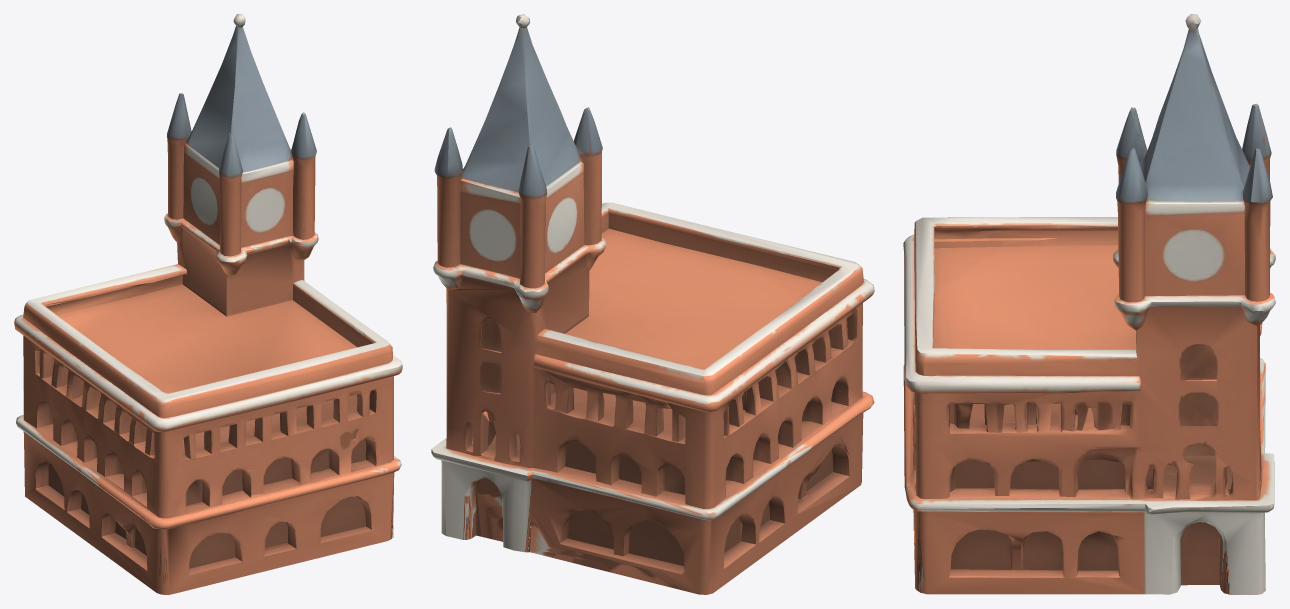
The model's file is ghirardelli-clock-tower.glb.
3 renders of one model, left to right at view 1: azimuth 30°, elevation 25°; view 2: azimuth 150°, elevation 25°; view 3: azimuth 270°, elevation 25°, orthographic. The views are drawn at different scales.
Parts seen in each view (by area): view 1: ghirardelli-clock-tower; view 2: ghirardelli-clock-tower; view 3: ghirardelli-clock-tower.
Part boxes in pixels (x1=…): ghirardelli-clock-tower: x1=14, y1=14, x2=402, y2=594; ghirardelli-clock-tower: x1=431, y1=14, x2=874, y2=594; ghirardelli-clock-tower: x1=903, y1=14, x2=1275, y2=594.
Size of the model in its own units: 4.77 by 8 by 4.89.
1 material, 1 textured.
